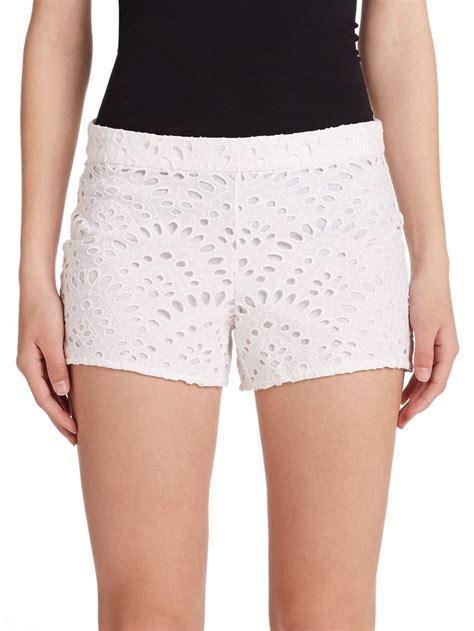short: (57, 115, 412, 390)
